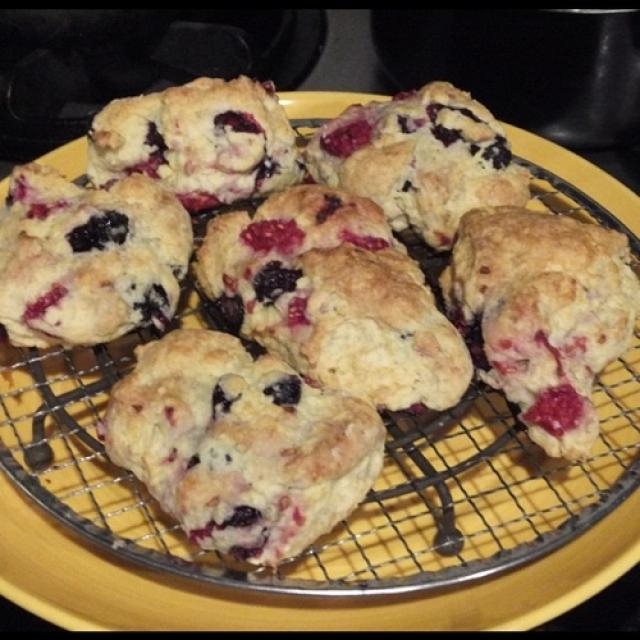面包点心: (13, 44, 623, 602)
